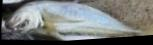fish: (4, 0, 152, 38)
